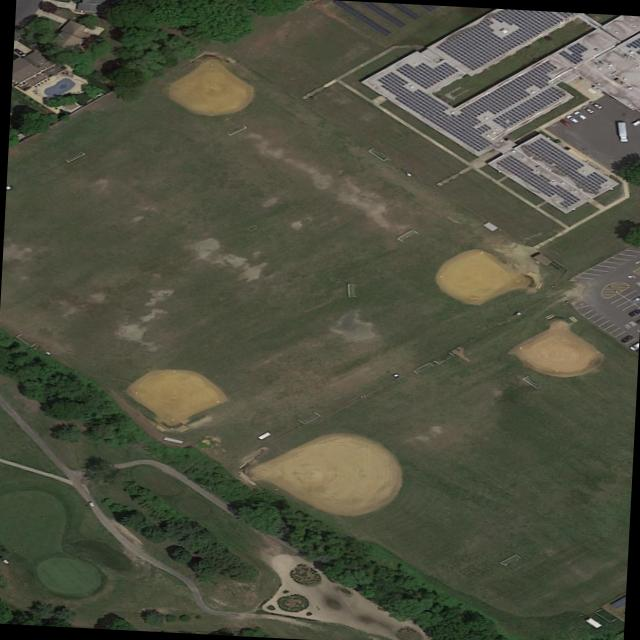large-vehicle: (618, 121, 629, 143)
small-vehicle: (572, 111, 589, 121), (588, 100, 604, 110), (565, 114, 581, 124), (620, 335, 635, 344), (559, 119, 574, 128), (581, 106, 596, 114), (632, 118, 640, 127)
